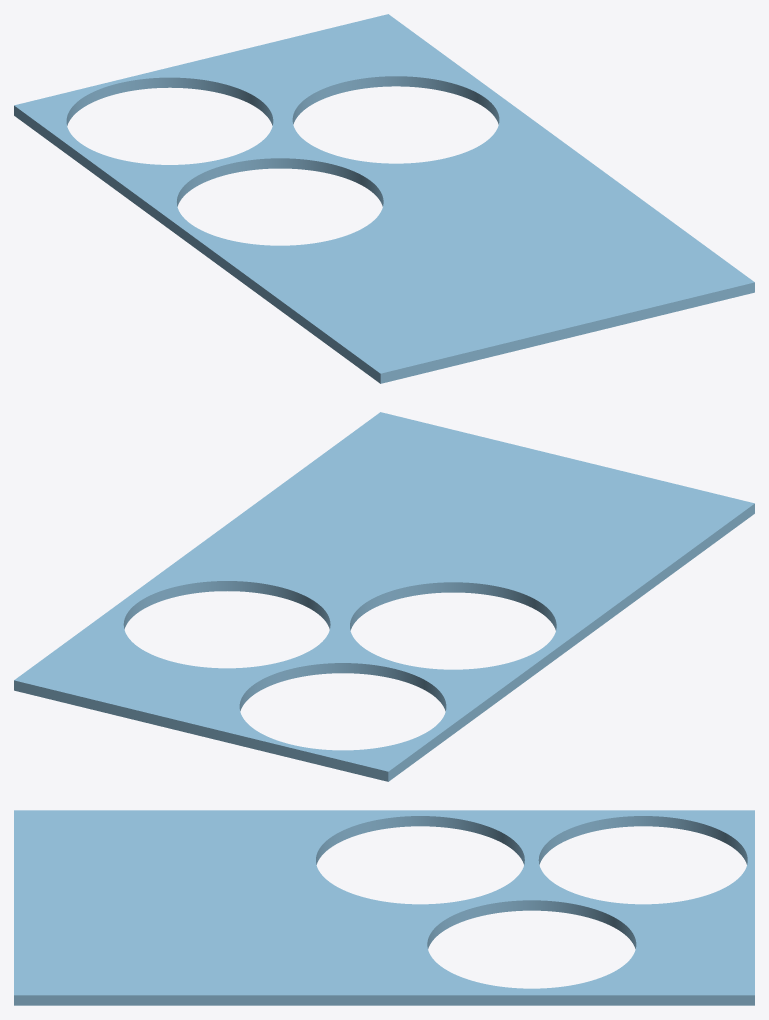
The model's file is obstacle_two_fb.obj.
3 renders of one model, top to bottom at view 1: azimuth 30°, elevation 25°; view 2: azimuth 150°, elevation 25°; view 3: azimuth 270°, elevation 25°, orthographic.
Size of the model in its own units: 0.575 by 0.015 by 0.975.
